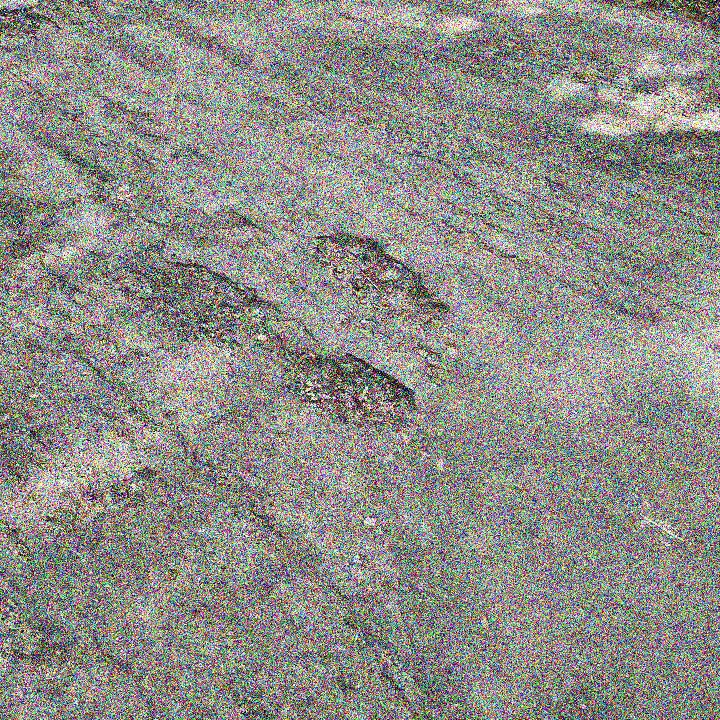pothole: (311, 226, 455, 328), (133, 257, 289, 349), (291, 348, 422, 437)
